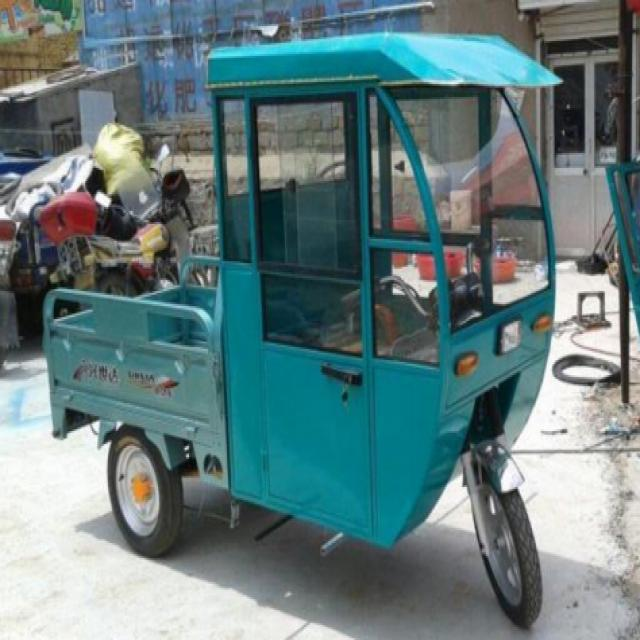motorbike: (37, 144, 193, 291)
tricycle: (36, 28, 556, 627)
